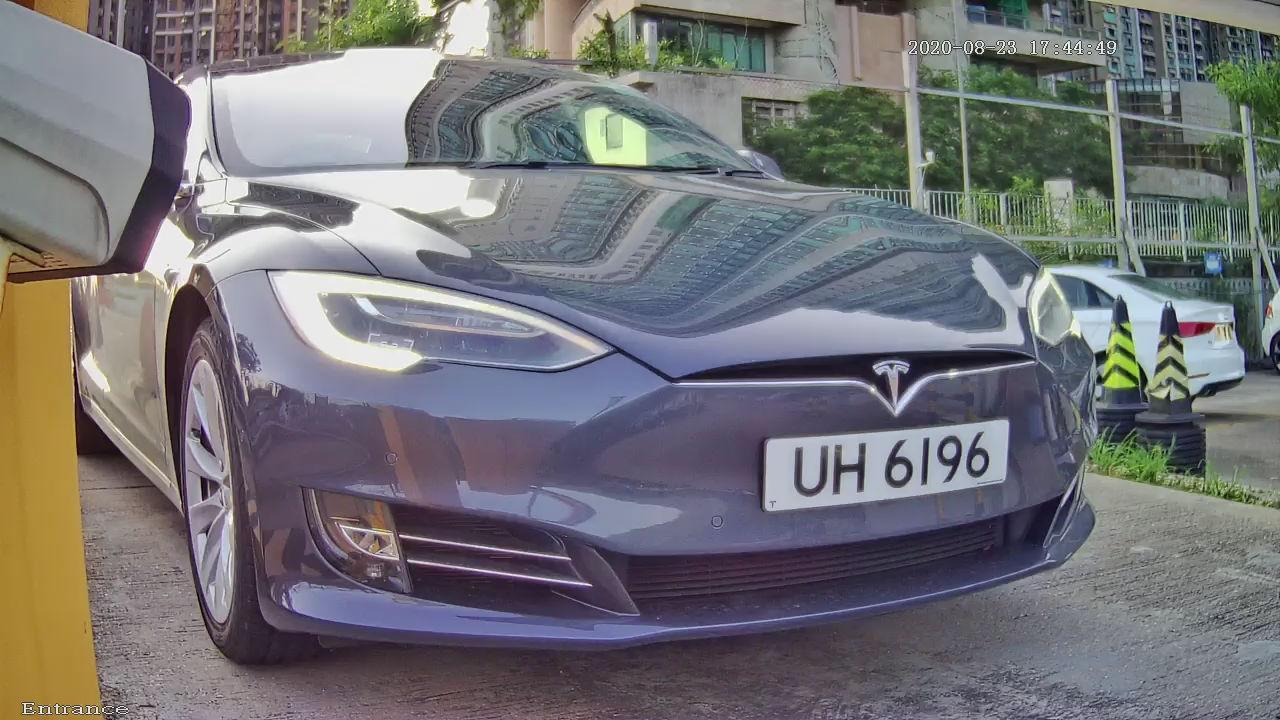License Plate: (722, 386, 1060, 548)
